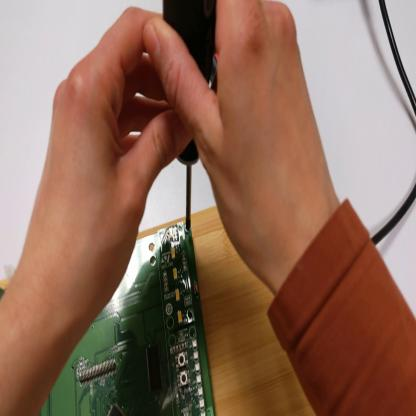hand: (150, 3, 338, 285), (27, 9, 190, 331)
low voltage board: (2, 225, 216, 415)
screwdriver-: (165, 2, 219, 234)
working area: (2, 207, 318, 416)
